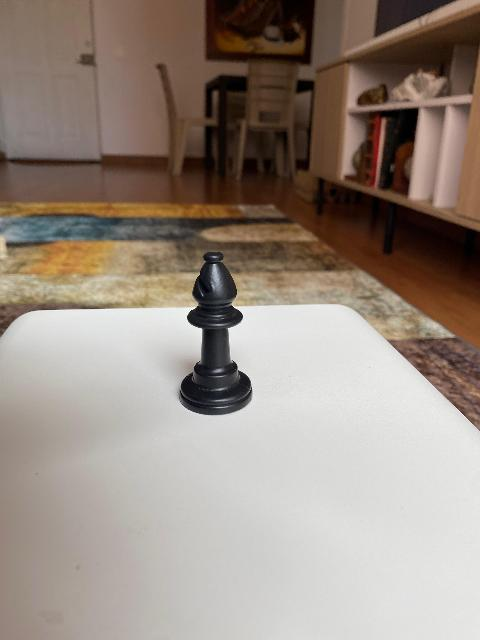black-bishop: (178, 250, 253, 414)
